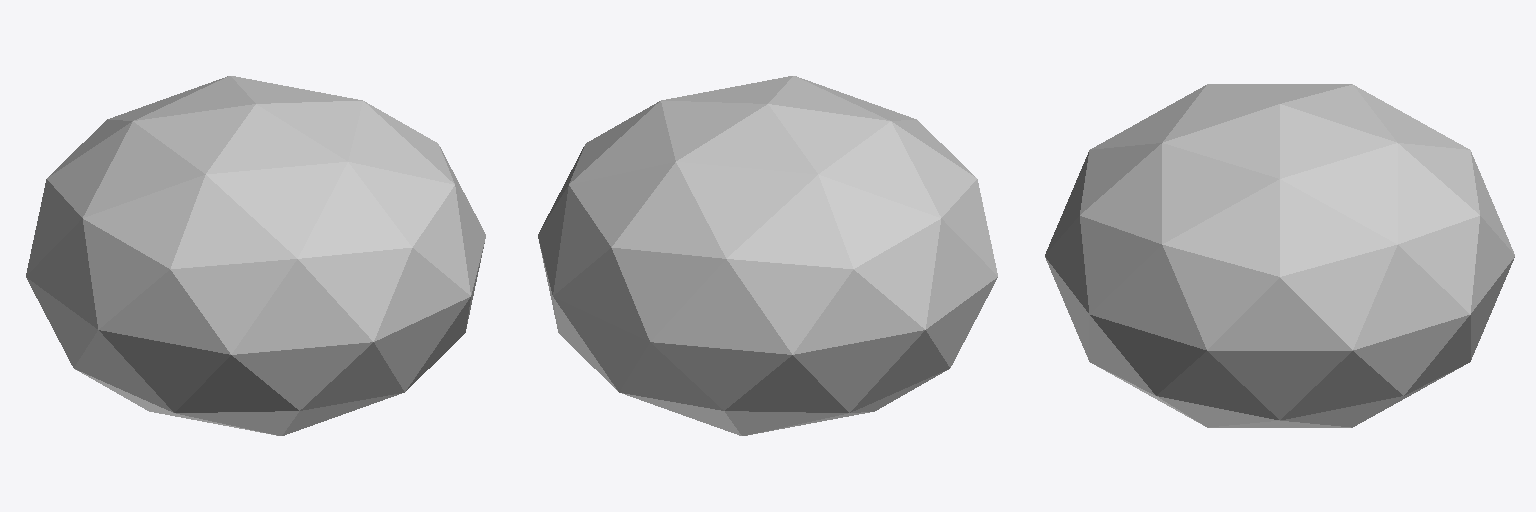
File: Bush1Proto.obj
3 views of the same model, side by side, from view 1: azimuth 30°, elevation 25°; view 2: azimuth 150°, elevation 25°; view 3: azimuth 270°, elevation 25° (orthographic).
Parts seen in each view (by area): view 1: Icosphere; view 2: Icosphere; view 3: Icosphere.
Boxes of the visible parts, <box> form: Icosphere: <box>26,76,485,435</box>; Icosphere: <box>538,76,997,435</box>; Icosphere: <box>1045,84,1514,427</box>.
Bounding box in the file's own units: 3.09 × 2.32 × 3.25.